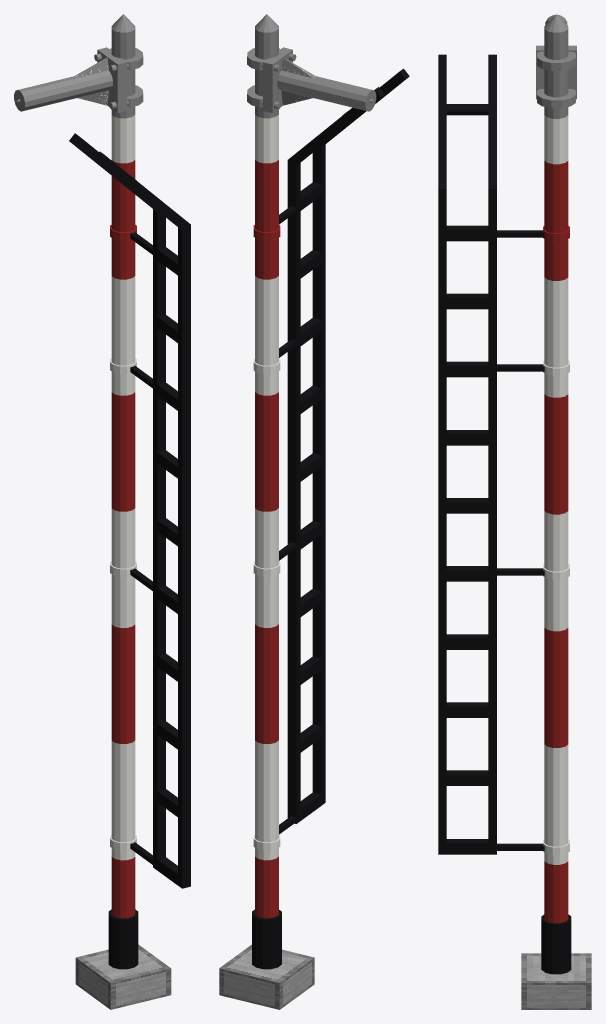
File: right_signal.obj
3 renders of one model, left to right at view 1: azimuth 30°, elevation 25°; view 2: azimuth 150°, elevation 25°; view 3: azimuth 270°, elevation 25°, orthographic.
Parts seen in each view (by area): view 1: main_pole, ladder_bottom, foundation, adapter, ladder_middle_connector, ladder_support, adapter_bolts; view 2: main_pole, ladder_bottom, foundation, adapter, ladder_middle_connector, ladder_support, adapter_bolts; view 3: main_pole, ladder_bottom, foundation, ladder_middle_connector, ladder_support, adapter_bolts, adapter.
Part boxes in pixels (x1,y1,x2,y2): main_pole: (108,14,138,969); ladder_bottom: (153,209,190,888); foundation: (75,944,171,1009); adapter: (14,47,127,112); ladder_middle_connector: (69,133,190,231); ladder_support: (130,232,169,877); adapter_bolts: (94,48,143,109); main_pole: (252,14,281,969); ladder_bottom: (287,144,325,823); foundation: (219,944,314,1009); adapter: (263,47,376,112); ladder_middle_connector: (288,68,409,167); ladder_support: (279,195,313,834); adapter_bolts: (247,48,296,109); main_pole: (541,14,571,974); ladder_bottom: (438,189,496,854); foundation: (521,953,591,1009); ladder_middle_connector: (438,54,496,188); ladder_support: (497,230,544,850); adapter_bolts: (537,51,575,108); adapter: (536,15,576,99).
Size of the model in its own units: 0.6649 by 4.51 by 0.6384.
Materials: 1 (1 with a texture image).
